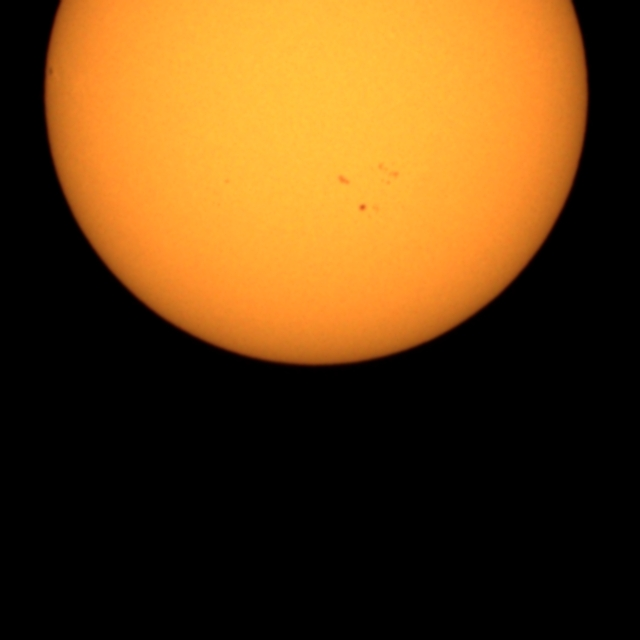sunspot: (374, 160, 402, 188), (357, 201, 378, 216), (336, 172, 352, 189), (46, 65, 55, 78)
